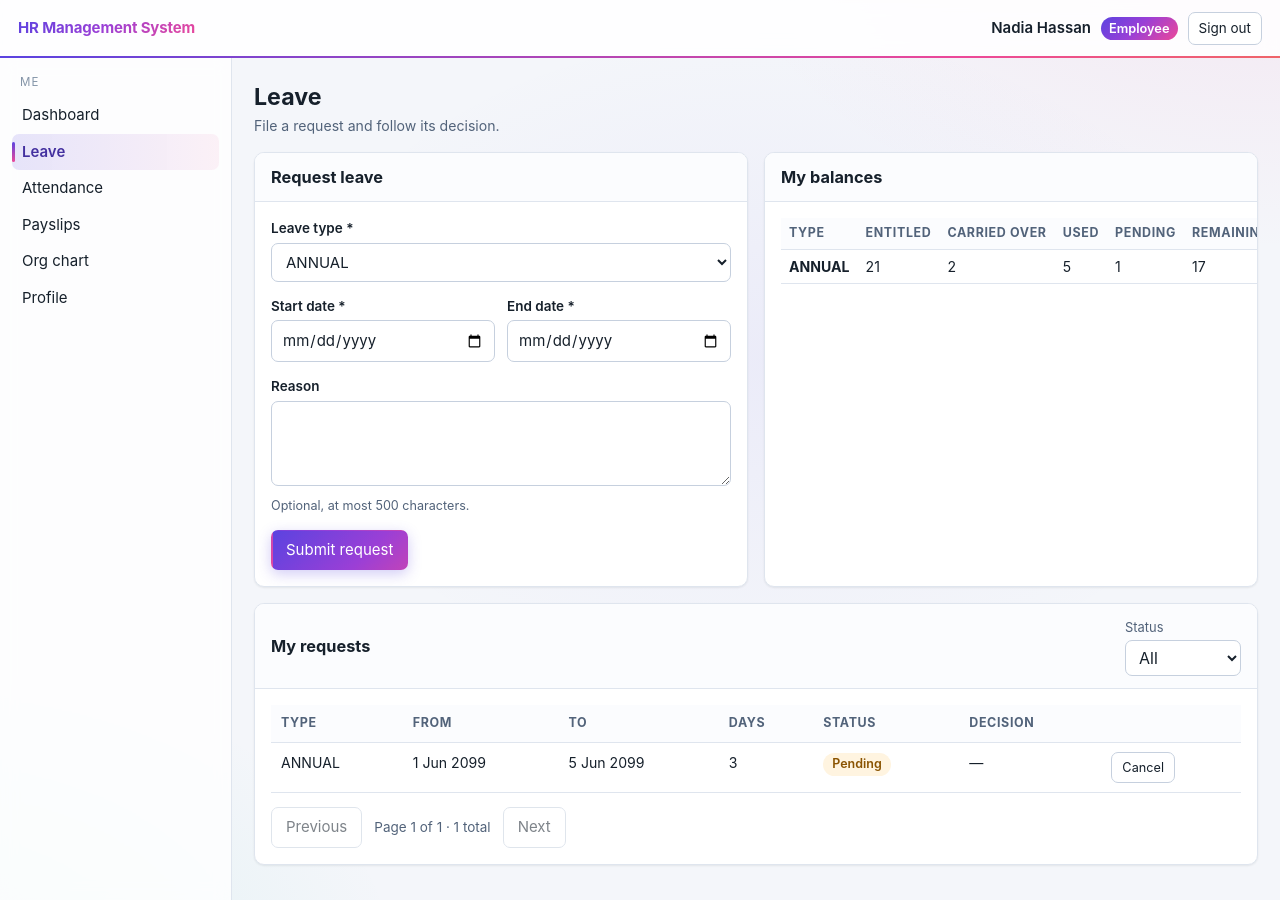
Test case: leave page › maps a 400 fieldErrors payload onto the offending field
This screenshot has width=1280, height=900.
Type "2099-06-01" into the date field labelled "Start date *" at (383,341), box [271,320,495,362]
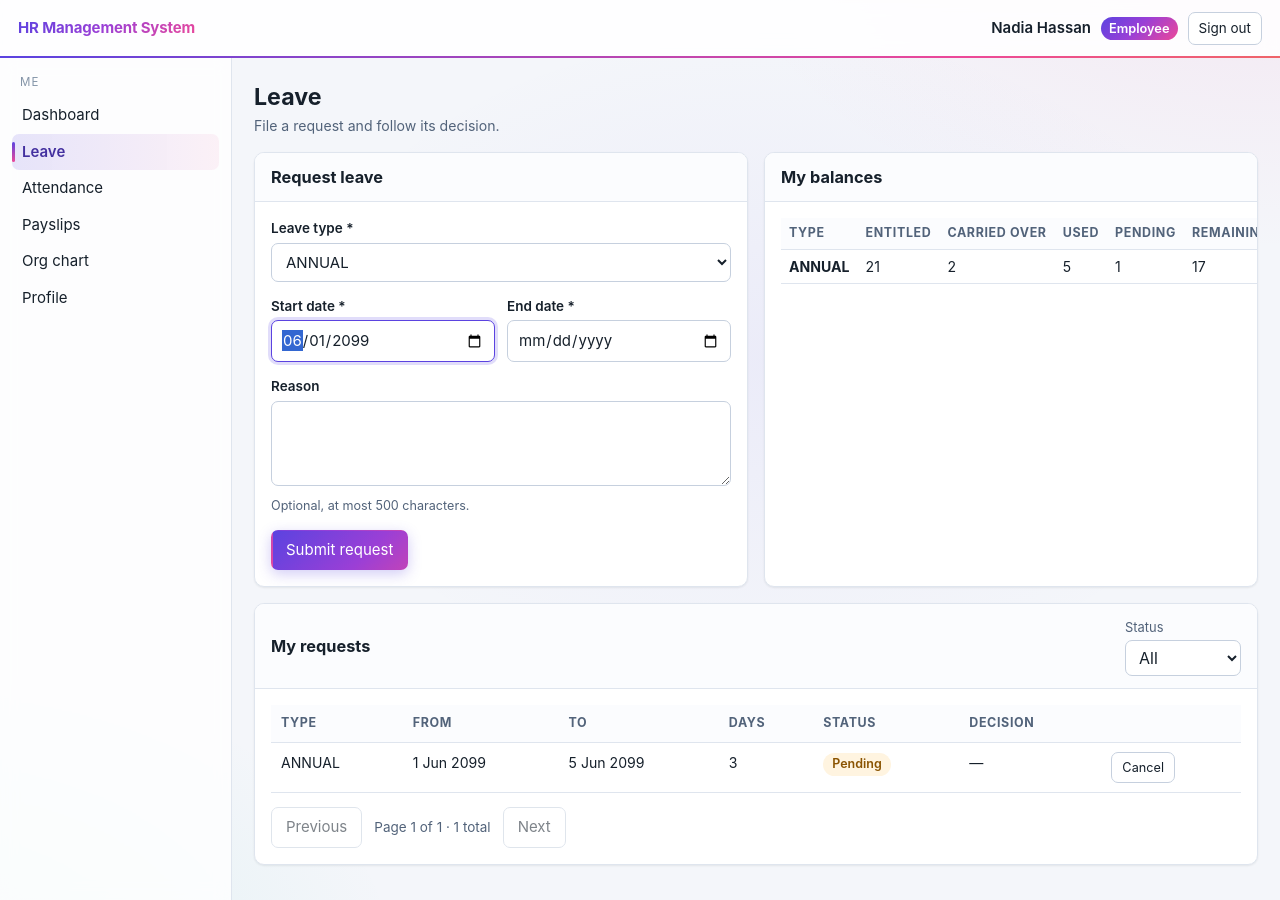
Type "2099-06-05" into the date field labelled "End date *" at (619,341), box [507,320,731,362]
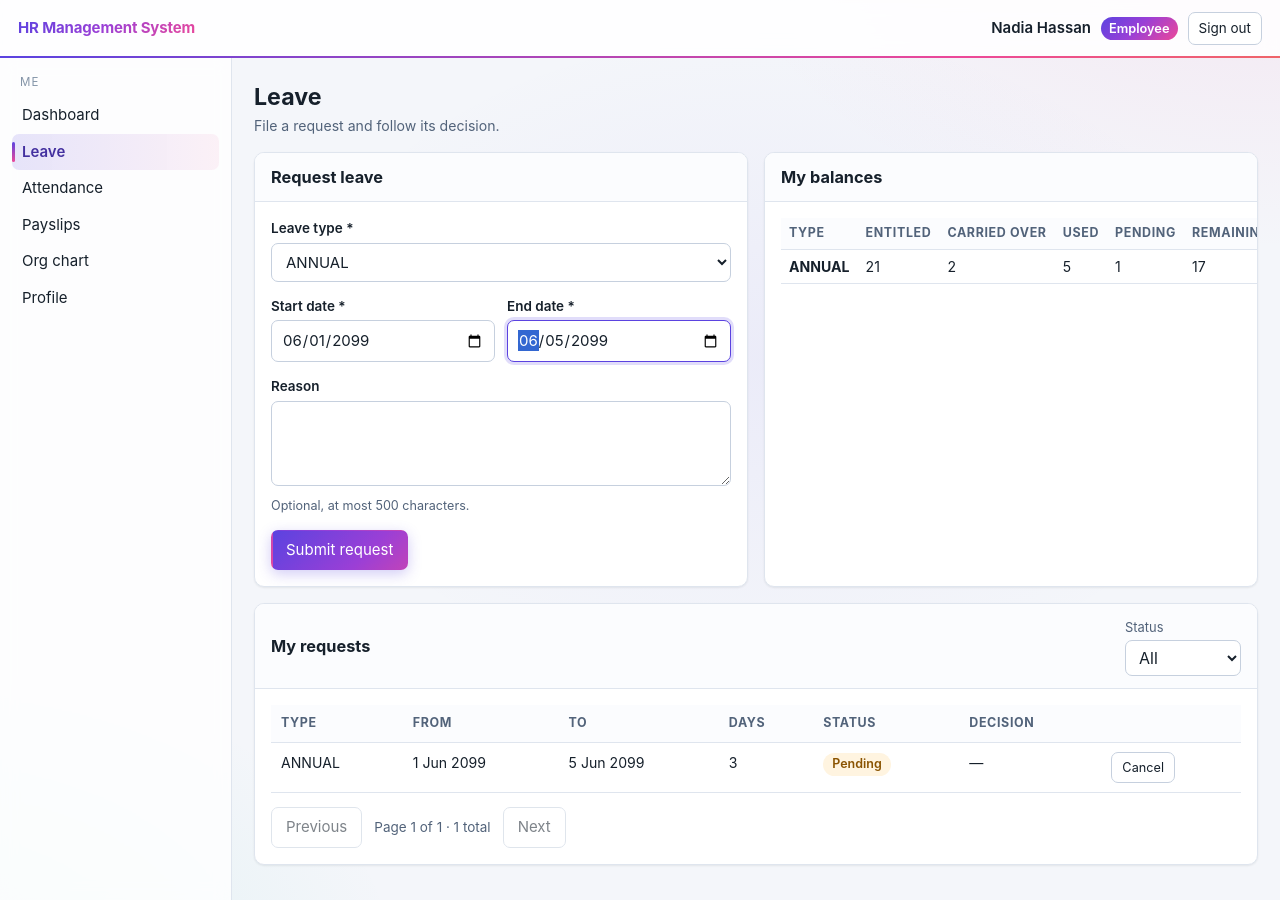
Click the button "Submit request" at (340,550), box [271,530,408,570]
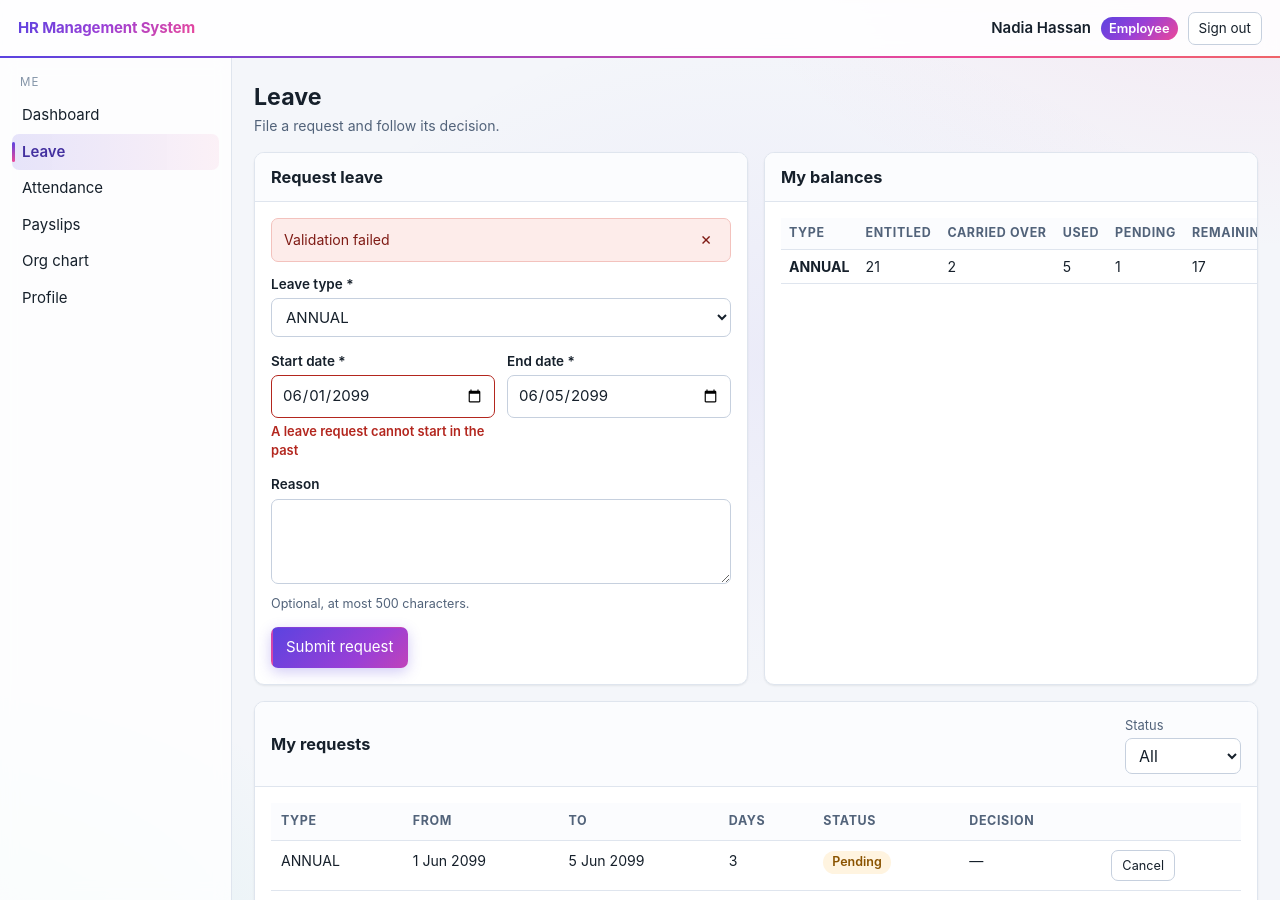
Expected: the text "A leave request cannot start in the past" is shown, [271,422,495,460]
